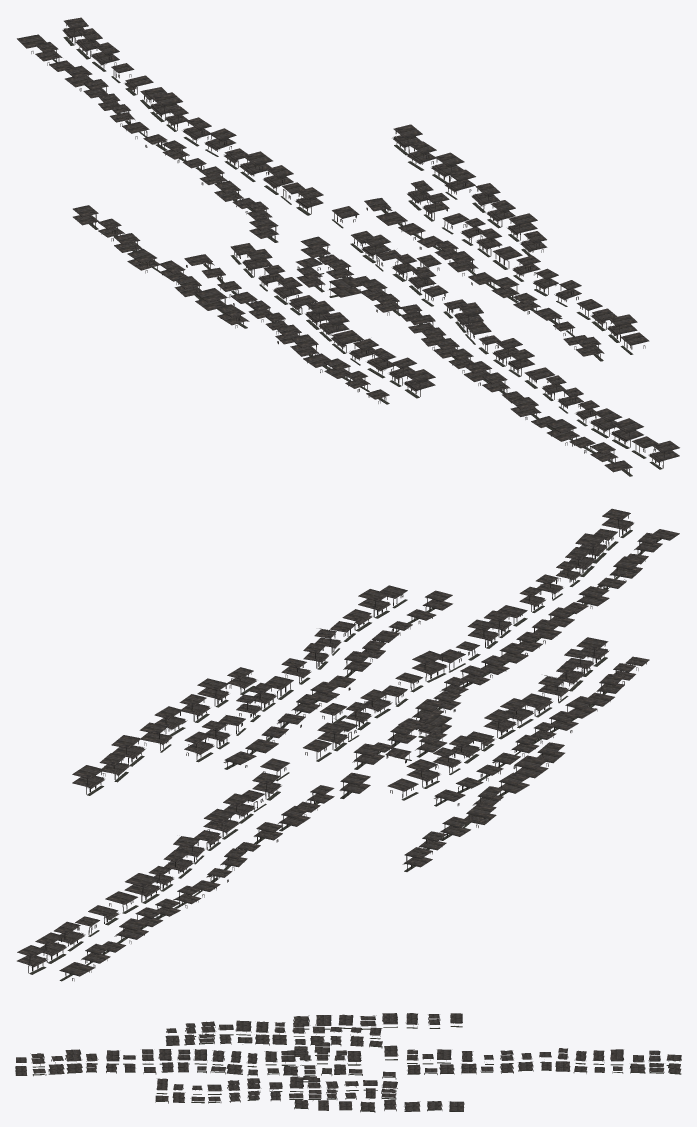
File: canal_shadow.glb
The picture shows the model from 3 angles, top to bottom: view 1: azimuth 30°, elevation 25°; view 2: azimuth 150°, elevation 25°; view 3: azimuth 270°, elevation 25°; orthographic projection. The views are drawn at different scales.
Visible parts, largest first — view 1: canal_shadow0; view 2: canal_shadow0; view 3: canal_shadow0.
Boxes of the visible parts, bbox=[...] form: canal_shadow0: bbox=[17, 17, 679, 476]; canal_shadow0: bbox=[17, 508, 679, 981]; canal_shadow0: bbox=[15, 1013, 681, 1112].
Size of the model in its own units: 118 by 7.25 by 347.
Materials: 1 (1 with a texture image).
